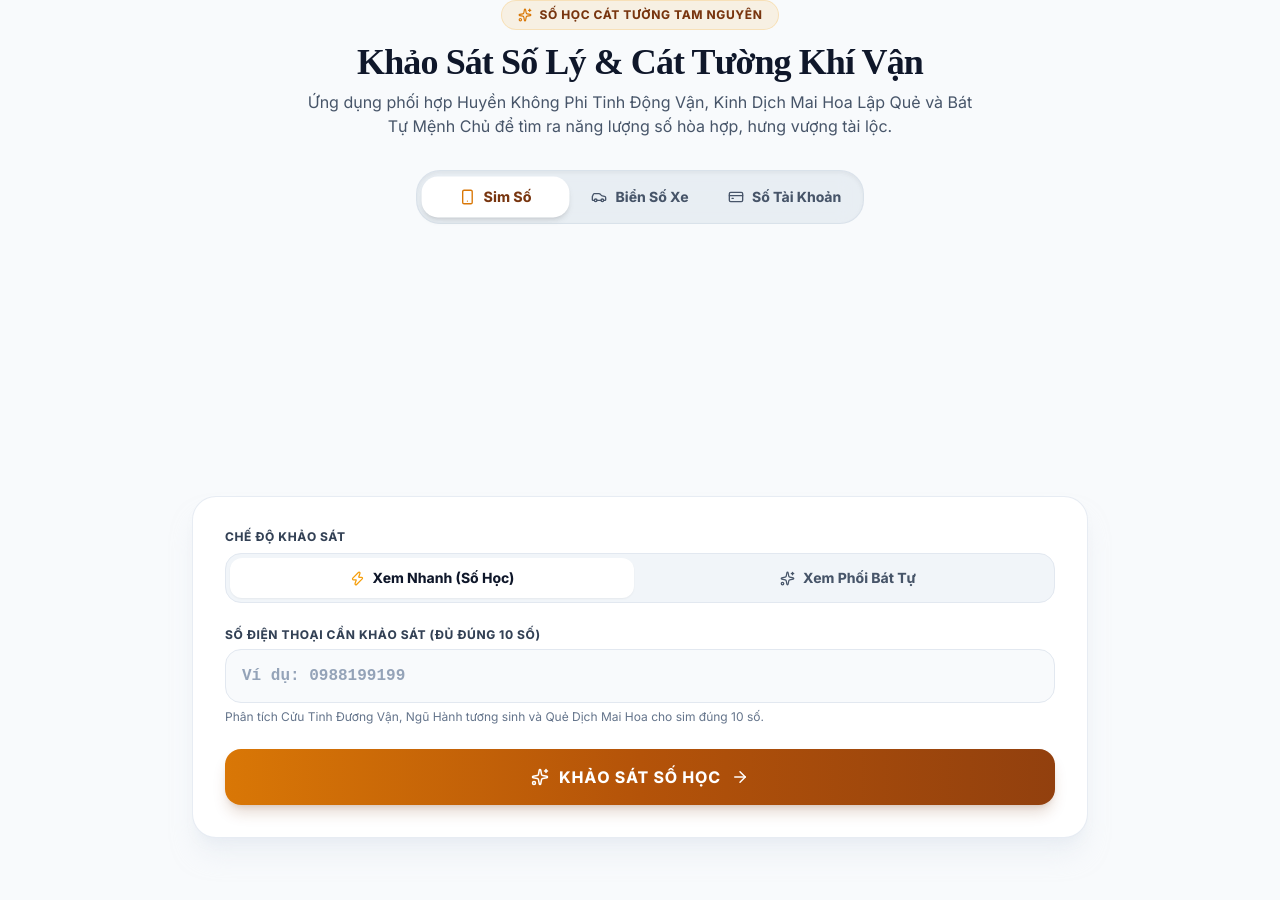
Test case: NumerologyInput Component Tests › validates license plate strictly (requires exactly 5 digits)
Click the button "Biển Số Xe".
click(640, 197)  # box [568,177,712,217]
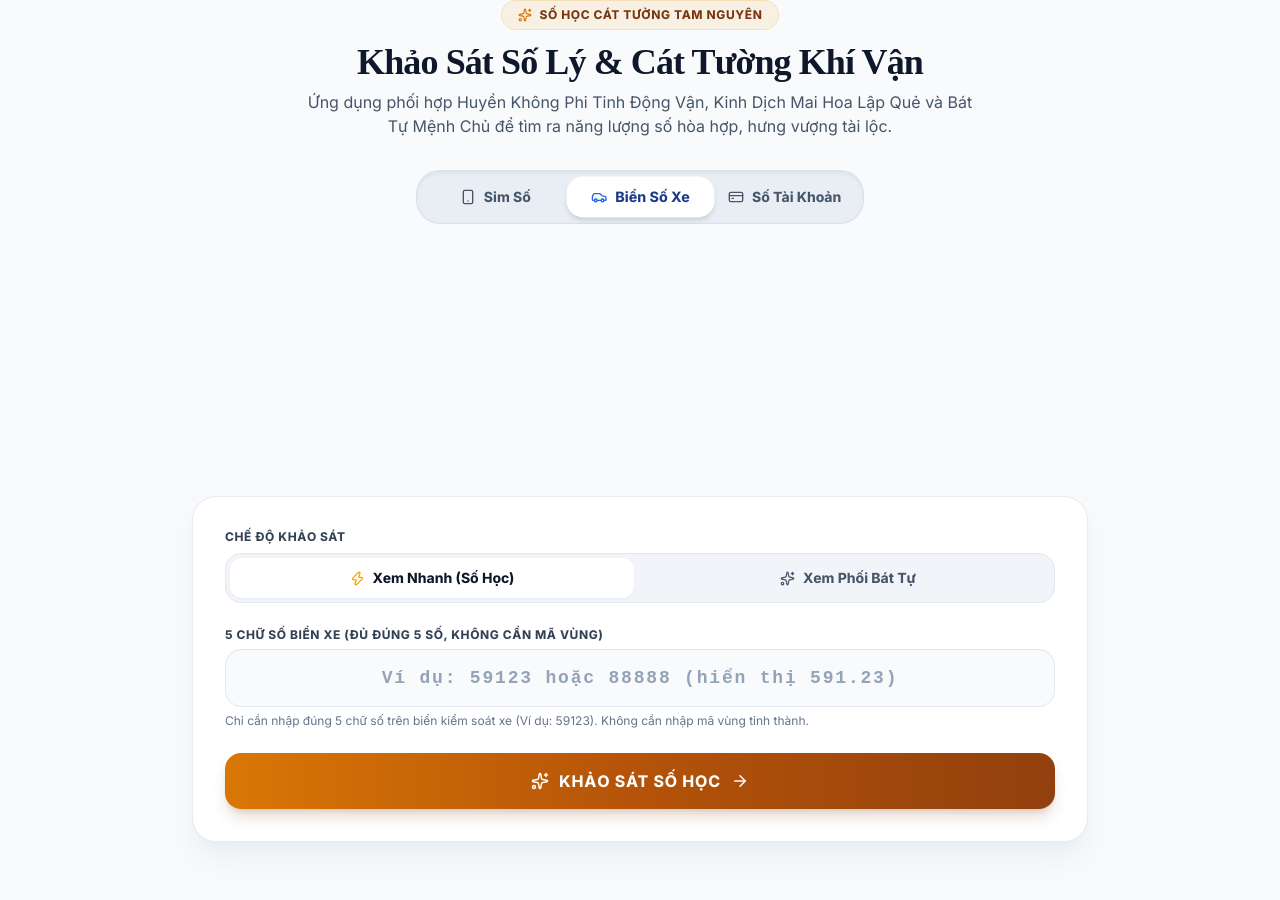
Type "5912" into the field with placeholder "Ví dụ: 59123 hoặc 88888 (hiển thị 591.23)".
click(640, 678); type("5912")  # box [225,649,1055,707]
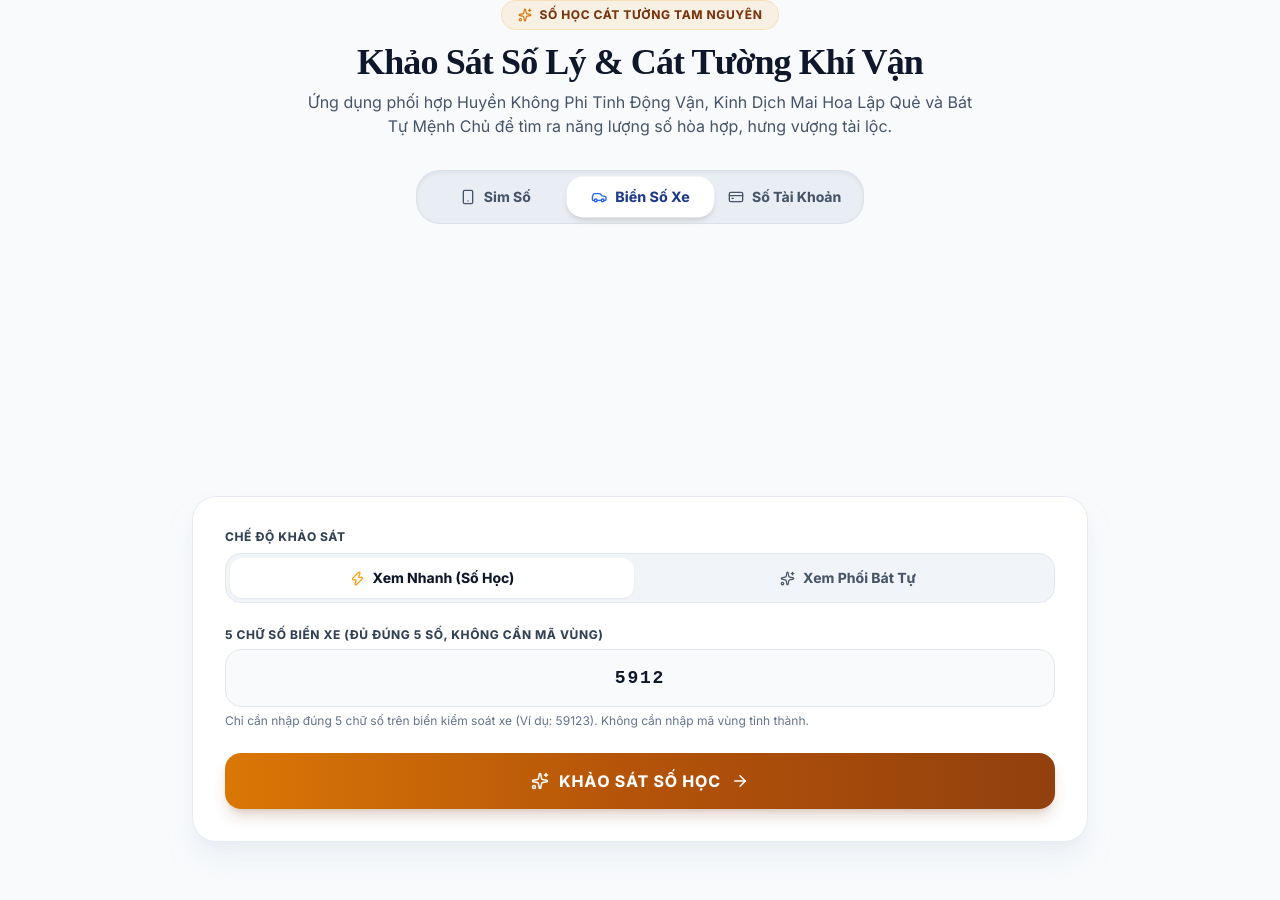
Click the button "Khảo Sát Số Học".
click(640, 781)  # box [225,753,1055,809]
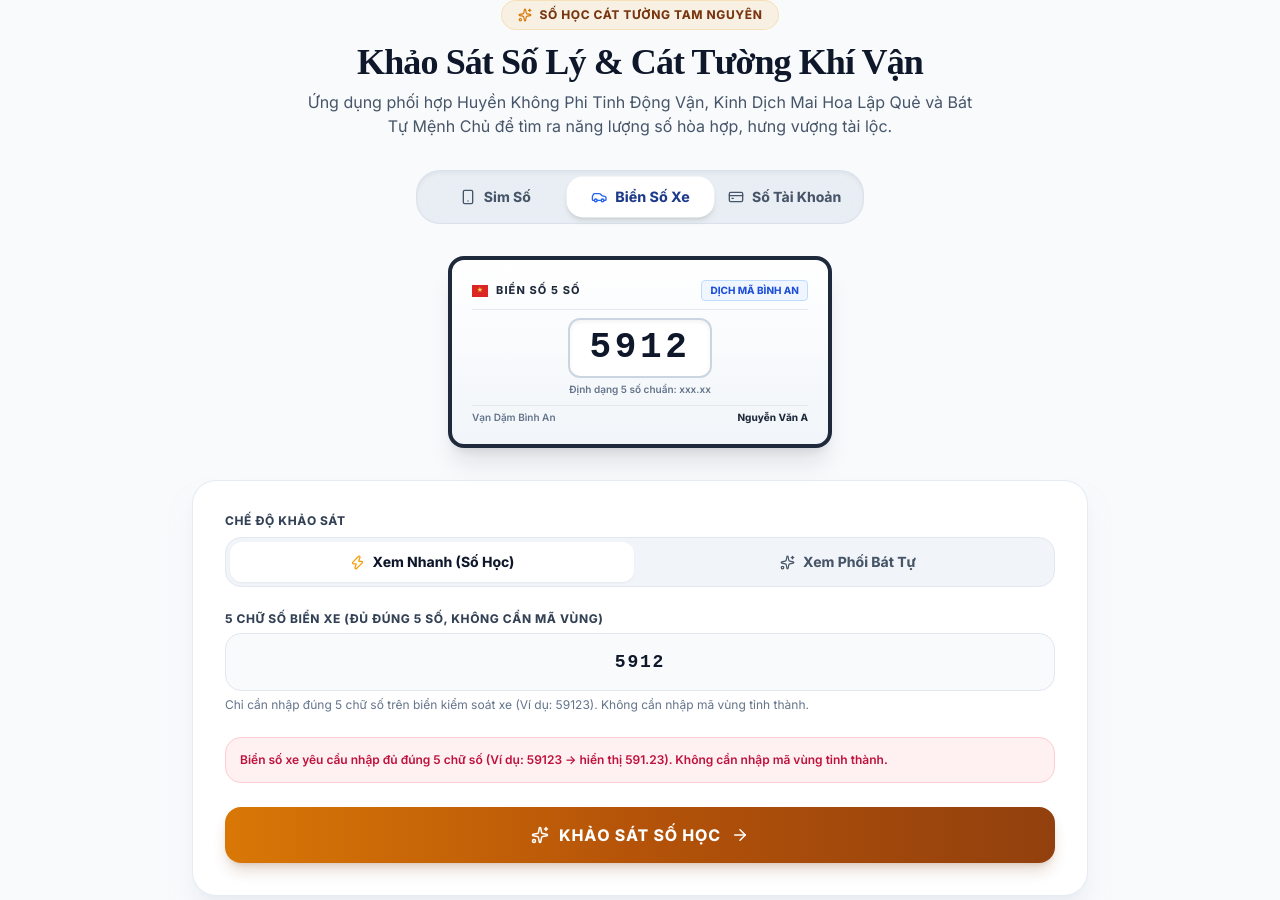
Expected: the text "Biển số xe yêu cầu nhập đủ đúng 5 chữ số" is shown, [240,752,888,767]
